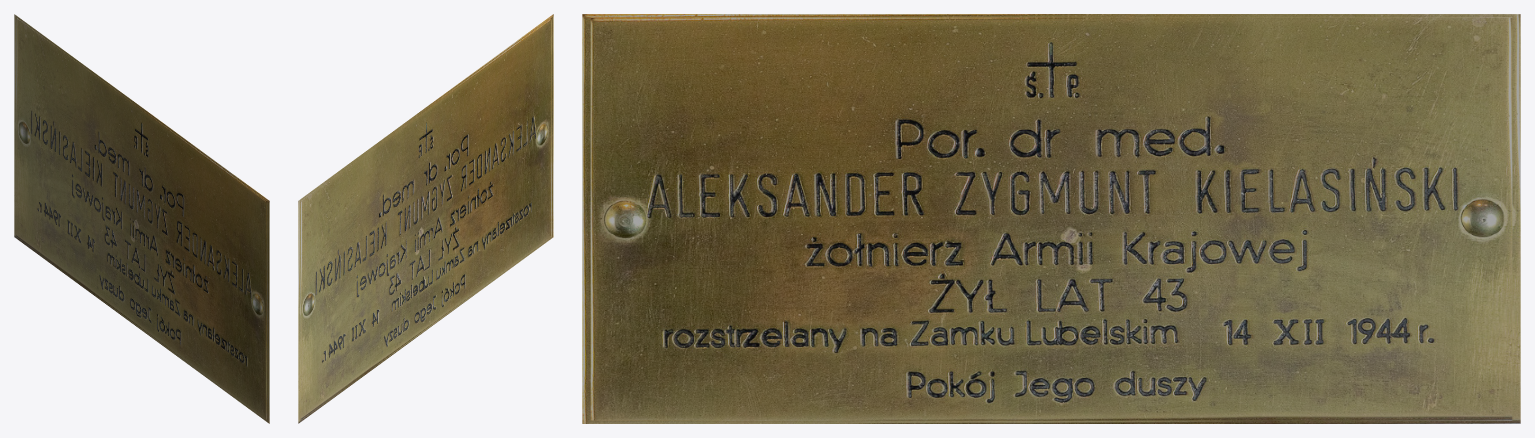
Rendered from 26. ŚP. por. dr n. med. ALEKSANDER ZYGMUNT KIELASIŃSKI.glb.
3 views of the same model, side by side, from view 1: azimuth 30°, elevation 25°; view 2: azimuth 150°, elevation 25°; view 3: azimuth 270°, elevation 25° (orthographic). The views are drawn at different scales.
Parts seen in each view (by area): view 1: Plane; view 2: Plane; view 3: Plane.
Boxes of the visible parts, x1,y1,x2,y2 form: Plane: (14,14,269,423); Plane: (298,14,553,423); Plane: (582,14,1520,423).
Bounding box in the file's own units: 0.0246 × 9.3 × 19.3.
Materials: 1 (1 with a texture image).
